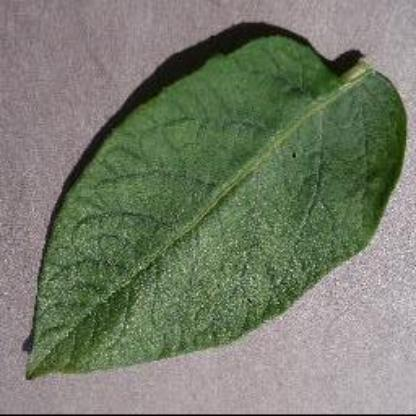Healthy-plant: (12, 11, 414, 406)
